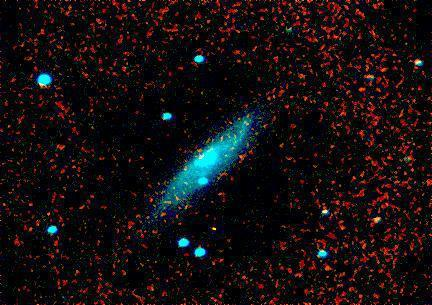star: (314, 253, 344, 283)
